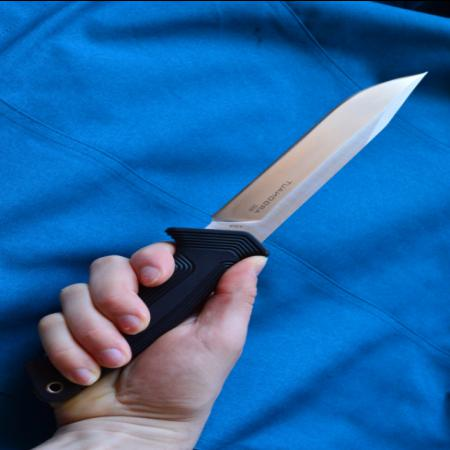long weapon: (88, 61, 437, 368)
